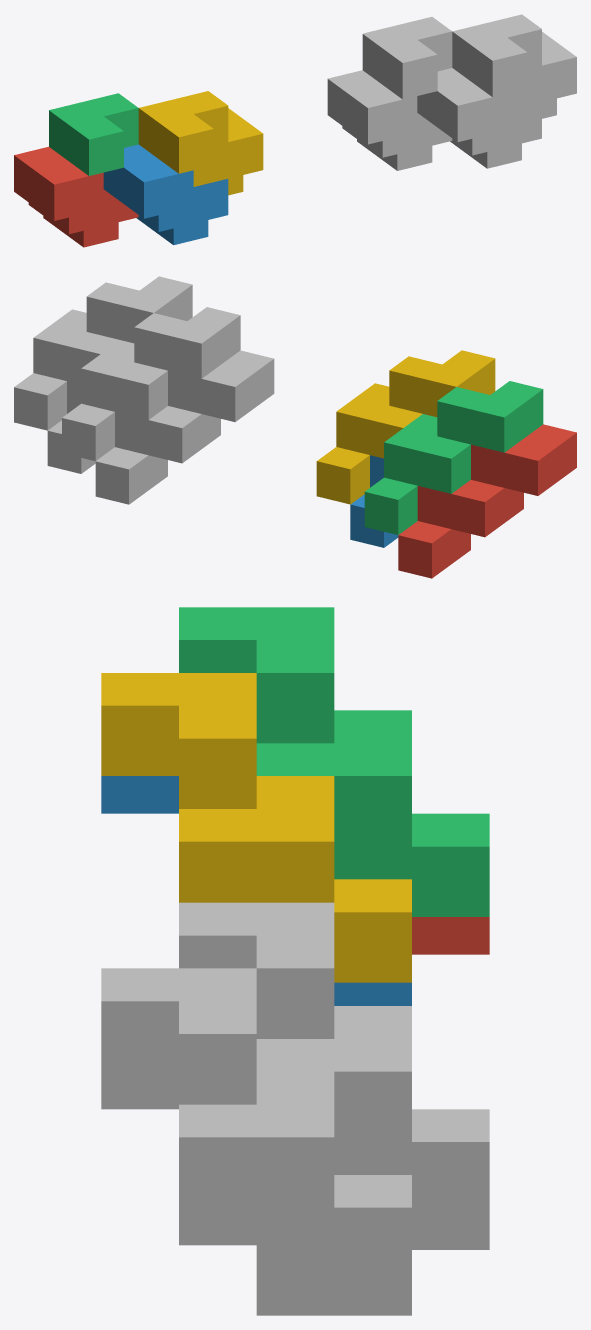
The model's file is tiling.obj.
The picture shows the model from 3 angles, top to bottom: view 1: azimuth 30°, elevation 25°; view 2: azimuth 150°, elevation 25°; view 3: azimuth 270°, elevation 25°; orthographic projection. The views are drawn at different scales.
Parts seen in each view (by area): view 1: copy_1_domain_4, copy_1_domain_8, copy_1_domain_2, copy_1_domain_6, copy_1_domain_5, copy_1_domain_1, copy_1_domain_7, copy_1_domain_3; view 2: copy_1_domain_3, copy_1_domain_7, copy_1_domain_5, copy_1_domain_1, copy_1_domain_4, copy_1_domain_8, copy_1_domain_6, copy_1_domain_2; view 3: copy_1_domain_8, copy_1_domain_4, copy_1_domain_7, copy_1_domain_3, copy_1_domain_6, copy_1_domain_2, copy_1_domain_1, copy_1_domain_5.
Part boxes in pixels (bbox=[...]): copy_1_domain_4: bbox=[138, 91, 263, 195]; copy_1_domain_8: bbox=[452, 14, 576, 118]; copy_1_domain_2: bbox=[103, 144, 228, 245]; copy_1_domain_6: bbox=[417, 68, 541, 168]; copy_1_domain_5: bbox=[327, 70, 452, 170]; copy_1_domain_1: bbox=[14, 146, 138, 247]; copy_1_domain_7: bbox=[362, 17, 452, 99]; copy_1_domain_3: bbox=[49, 93, 138, 175]; copy_1_domain_3: bbox=[364, 381, 543, 534]; copy_1_domain_7: bbox=[62, 307, 240, 461]; copy_1_domain_5: bbox=[95, 350, 274, 504]; copy_1_domain_1: bbox=[398, 424, 576, 578]; copy_1_domain_4: bbox=[316, 350, 495, 504]; copy_1_domain_8: bbox=[14, 276, 192, 430]; copy_1_domain_6: bbox=[47, 381, 95, 473]; copy_1_domain_2: bbox=[350, 455, 398, 547]; copy_1_domain_8: bbox=[101, 968, 411, 1278]; copy_1_domain_4: bbox=[101, 673, 411, 982]; copy_1_domain_7: bbox=[179, 902, 489, 1212]; copy_1_domain_3: bbox=[179, 607, 489, 916]; copy_1_domain_6: bbox=[101, 1071, 411, 1315]; copy_1_domain_2: bbox=[101, 776, 411, 1005]; copy_1_domain_1: bbox=[412, 917, 489, 954]; copy_1_domain_5: bbox=[412, 1212, 489, 1249].
Bounding box in the file's own units: 15 × 4 × 5.
